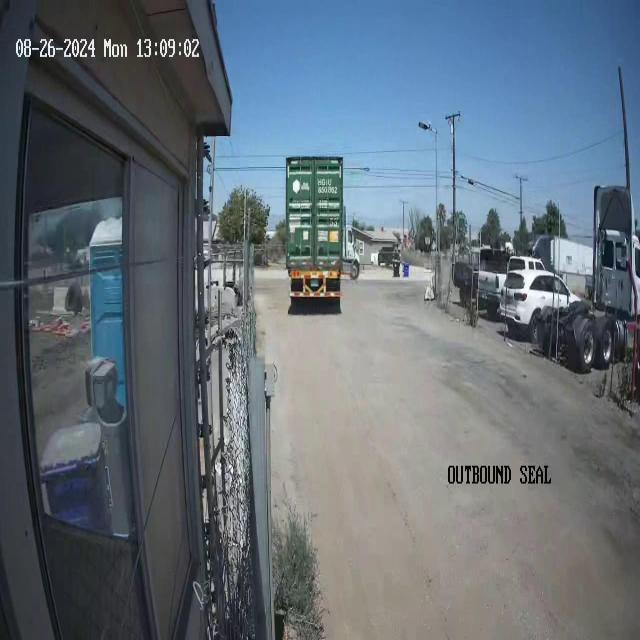TRUCK_OUT: (284, 155, 344, 312)
